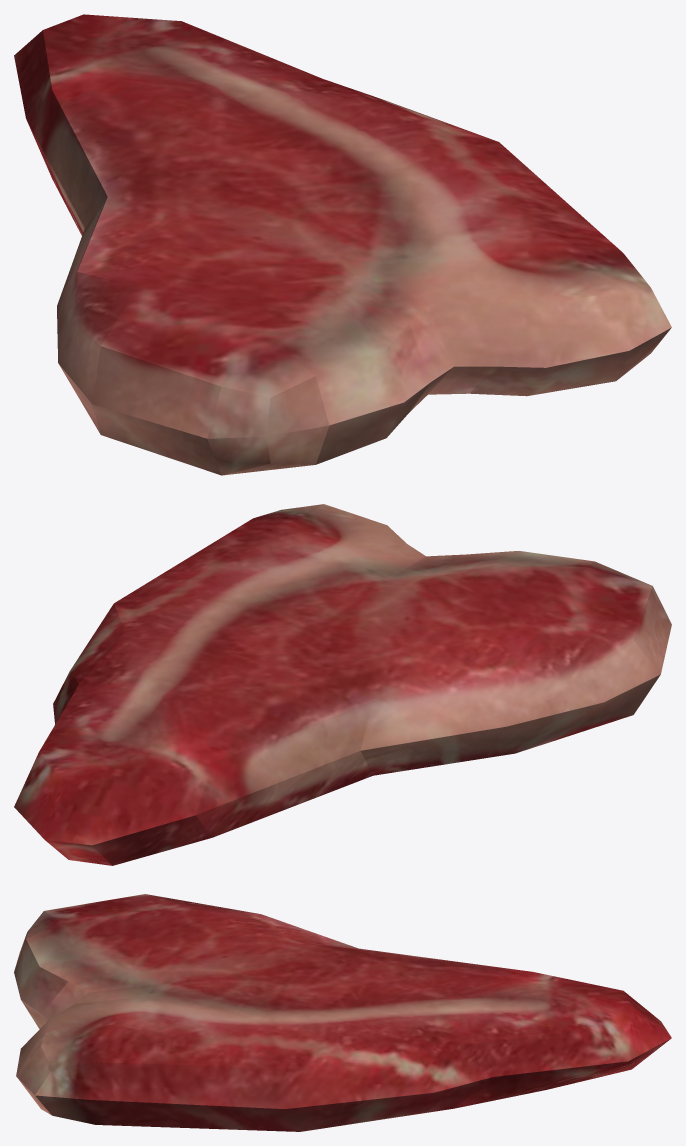
Rendered from Beef_tbone.fbx.
3 renders of one model, top to bottom at view 1: azimuth 30°, elevation 25°; view 2: azimuth 150°, elevation 25°; view 3: azimuth 270°, elevation 25°, orthographic. The views are drawn at different scales.
Parts seen in each view (by area): view 1: t-bone; view 2: t-bone; view 3: t-bone.
Boxes of the visible parts, x1,y1,x2,y2 form: t-bone: (14,14,671,475); t-bone: (14,504,671,865); t-bone: (14,894,671,1131).
Size of the model in its own units: 0.2872 by 0.0588 by 0.4186.
